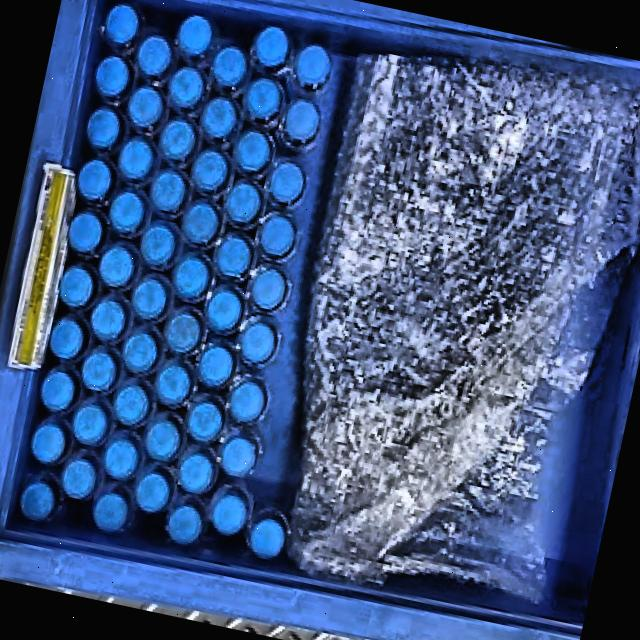vial: (245, 77, 282, 122), (206, 287, 243, 332), (283, 98, 319, 144), (173, 254, 210, 298), (294, 44, 330, 89), (191, 149, 228, 192), (252, 25, 289, 68), (215, 234, 252, 277), (250, 267, 287, 310), (140, 222, 176, 266), (240, 321, 277, 363), (229, 380, 266, 422), (249, 517, 286, 559), (235, 130, 271, 173), (94, 55, 130, 97), (127, 85, 163, 127), (98, 245, 134, 287), (90, 298, 126, 340), (168, 66, 204, 108), (150, 170, 186, 212), (131, 277, 167, 319), (211, 46, 247, 88), (201, 97, 237, 139), (182, 202, 218, 244), (165, 311, 201, 353), (225, 182, 261, 224), (198, 345, 234, 387), (30, 421, 66, 463), (19, 479, 55, 521), (72, 402, 108, 444), (113, 383, 149, 425), (155, 363, 191, 405), (134, 471, 170, 513), (178, 451, 214, 493), (211, 493, 247, 535), (68, 210, 103, 253), (109, 190, 144, 233), (177, 14, 212, 57), (122, 331, 158, 372), (92, 491, 128, 532), (187, 400, 223, 441), (220, 435, 256, 476), (104, 3, 139, 45), (77, 159, 112, 201), (59, 265, 94, 307), (49, 317, 84, 359), (118, 138, 153, 180), (269, 162, 304, 204), (260, 215, 295, 257), (40, 369, 75, 411), (61, 457, 96, 499), (103, 437, 138, 479), (166, 504, 202, 544), (136, 35, 171, 76), (160, 119, 195, 160), (81, 350, 116, 391), (145, 419, 180, 460), (86, 107, 120, 149)
